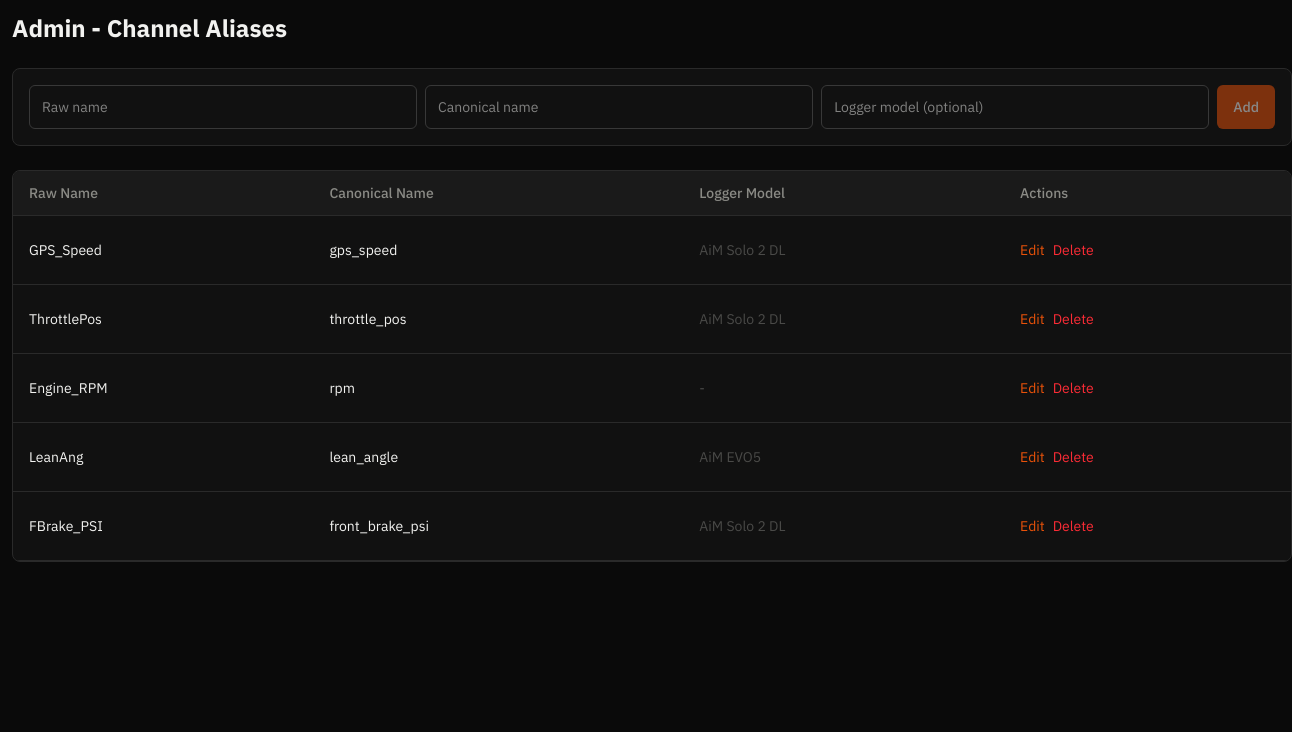
Admin screen › clicking cancel exits inline edit mode
Click the button with test id "edit-alias-1".
click(1032, 250)  # box [1020, 228, 1045, 272]
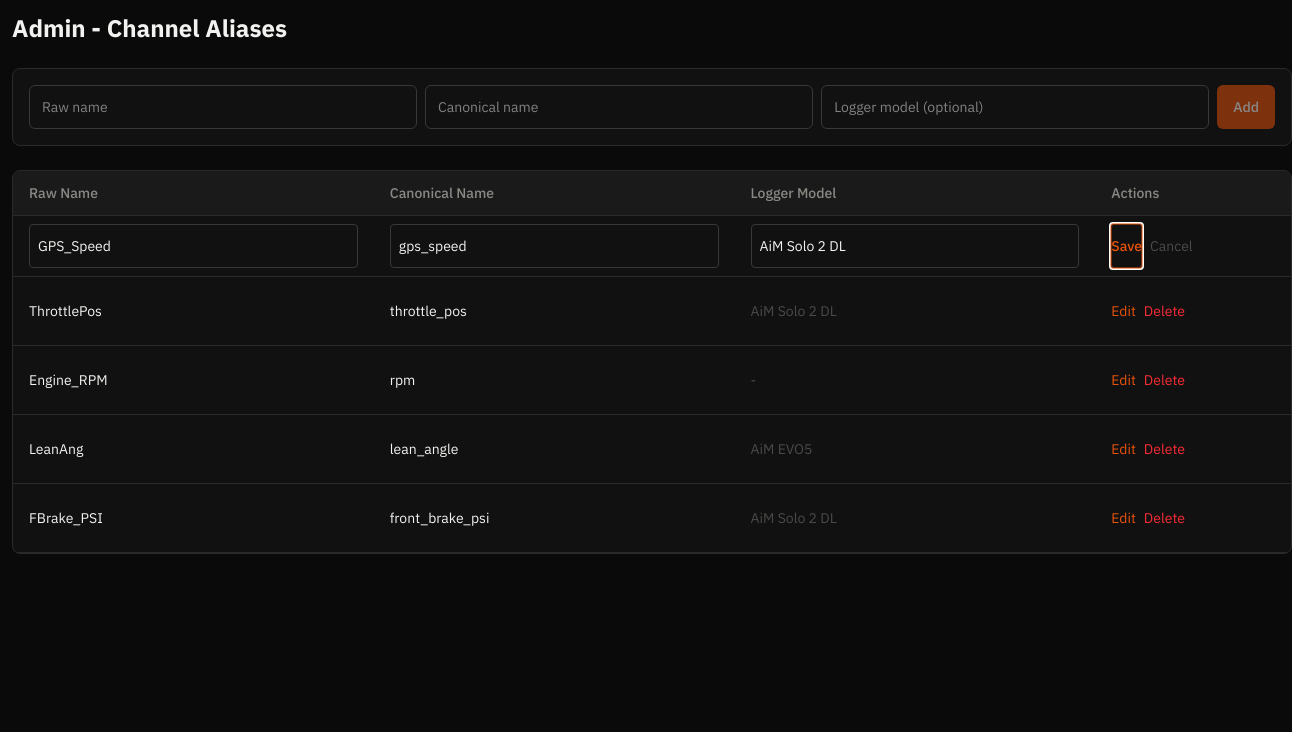
Check: the button with test id "cancel-edit-btn" is shown
Click the button with test id "cancel-edit-btn".
click(1171, 246)  # box [1150, 224, 1193, 268]
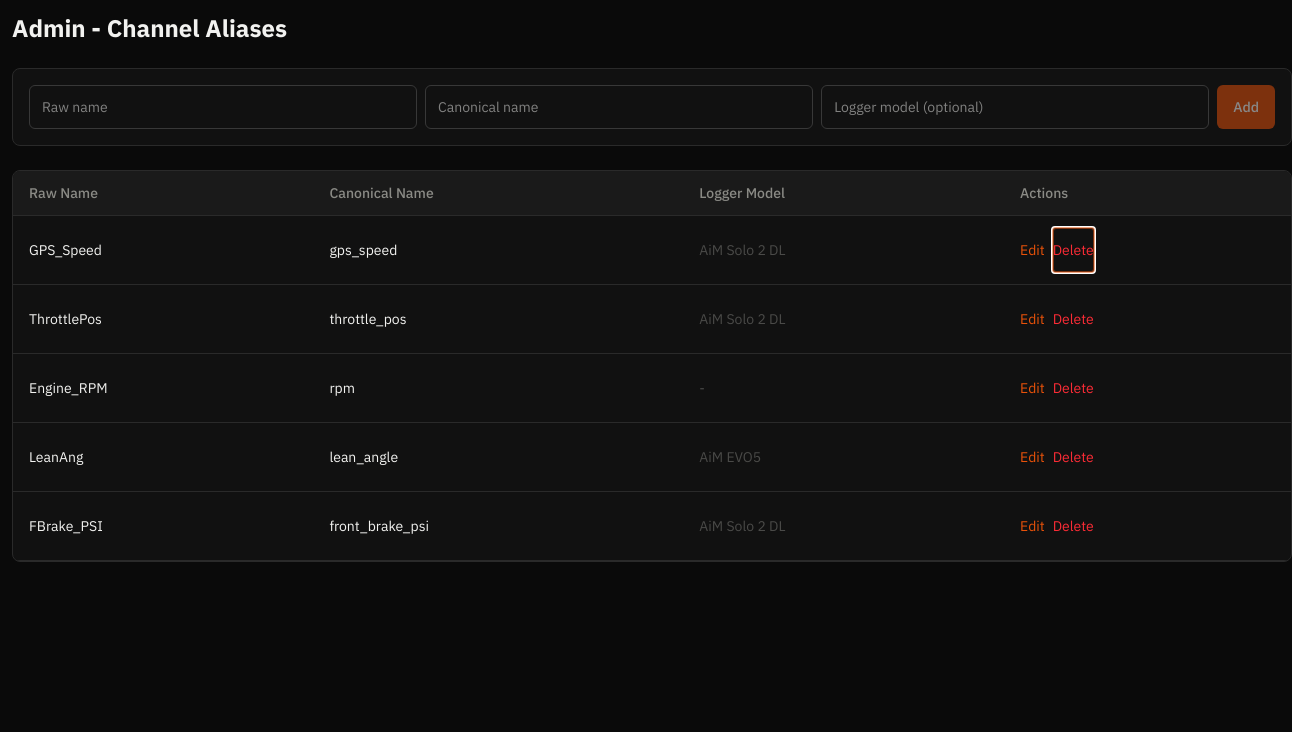
Check: the field with test id "edit-raw-name" is gone
